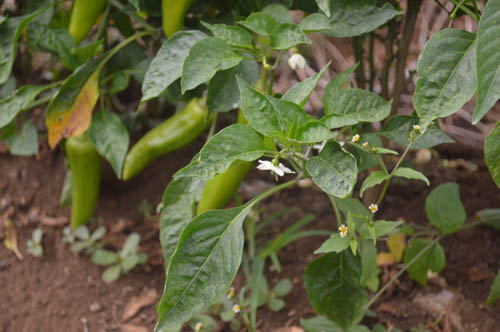ChiliPepper: (193, 88, 288, 230), (119, 102, 217, 178), (64, 138, 102, 234), (70, 4, 108, 57), (159, 3, 192, 42)
